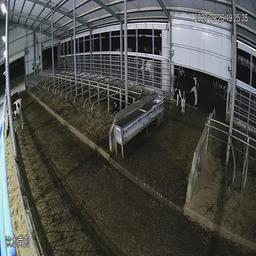cow: (109, 93, 137, 119), (5, 97, 25, 133), (181, 75, 199, 107), (173, 77, 186, 116)
